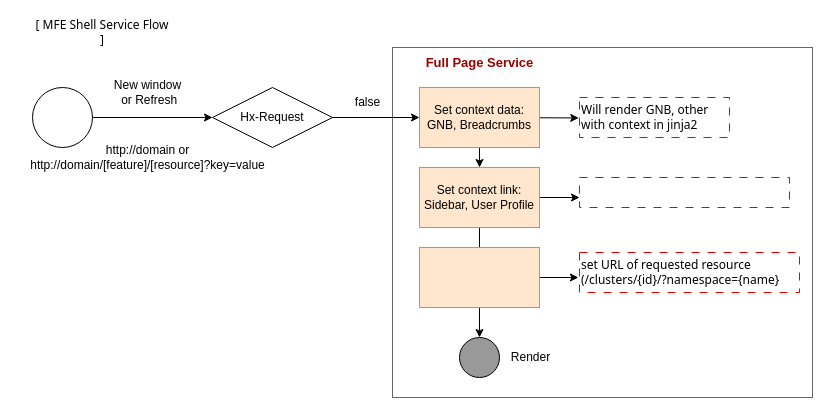
Image size: 830x415. Some labels were removed from this diagram. The centre of each missing label's shape, as x and y in pixels:
client: pixel 62 117
Set context Body(Main): hx-get="url": pixel 479 277
Will load htmx component with link: pixel 684 192
